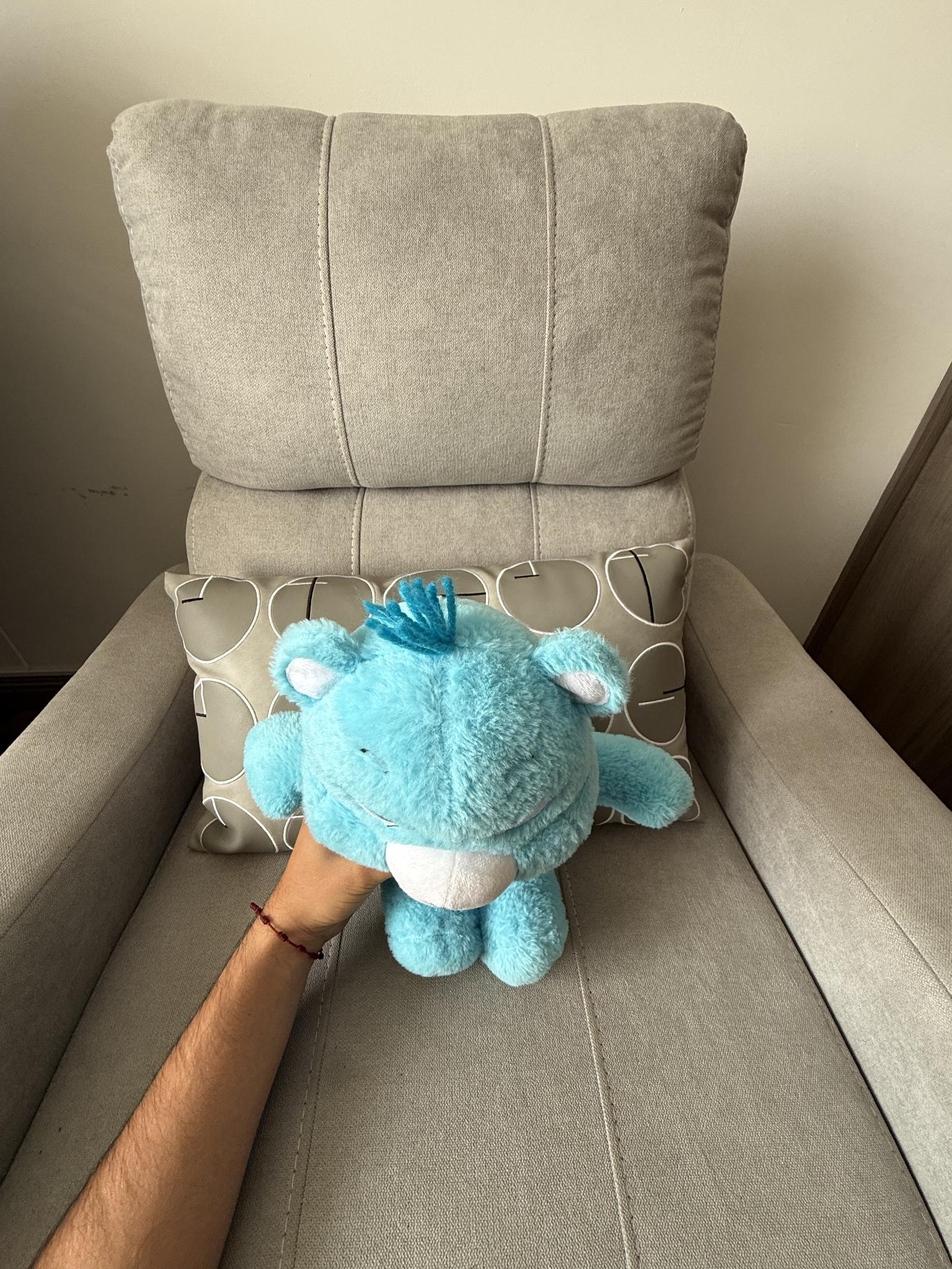peluche_Juan Jose: (279, 593, 685, 990)
